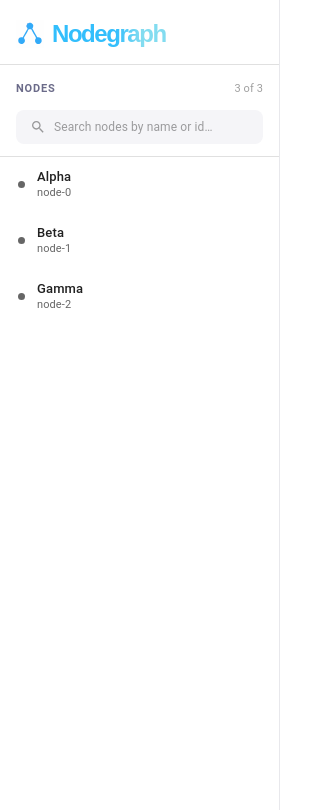
Test: SidePanel component › search › should show the empty state when no nodes match
Type "zzz" into the field with placeholder "Search nodes by name or id…" at x=158, y=127, box [54, 110, 263, 144]
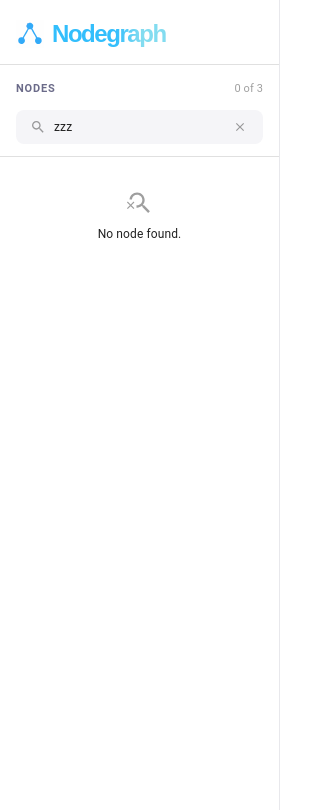
Check: the text "No node found." is shown, box [98, 225, 181, 243]
